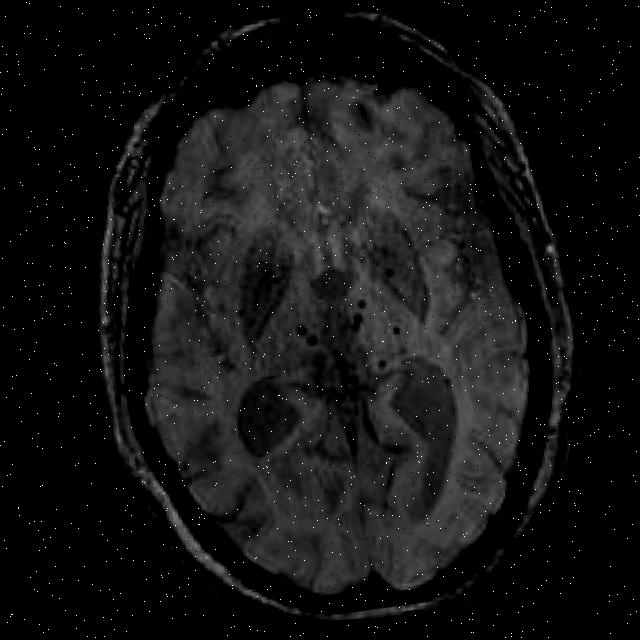NoTumor: (54, 0, 610, 636)
